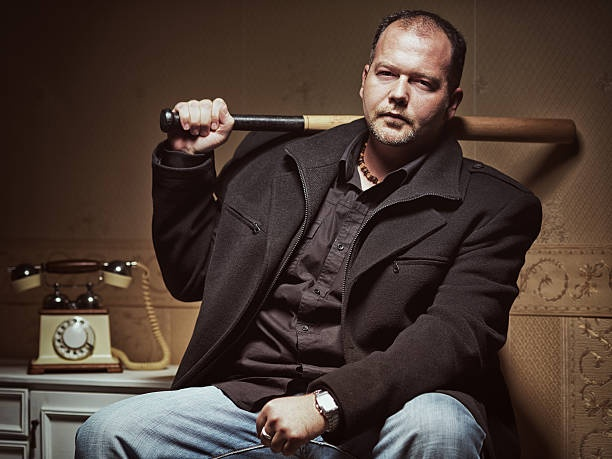bita: (159, 109, 366, 133), (445, 117, 586, 147)
